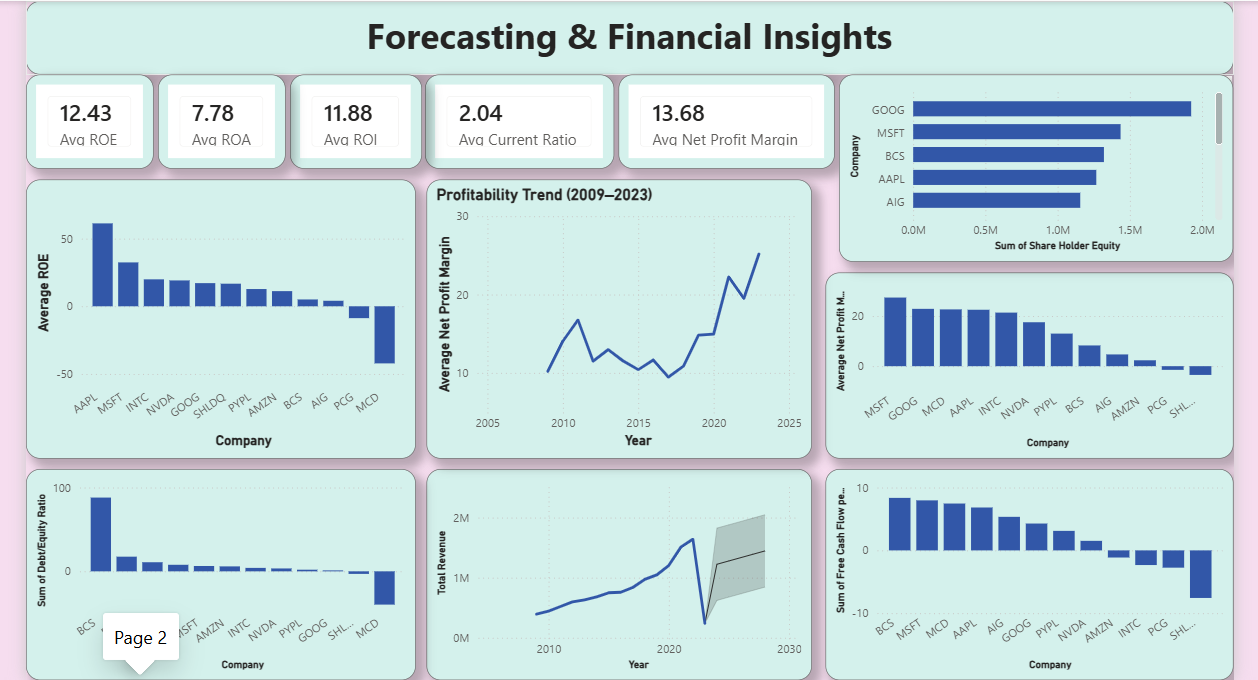

This screenshot's page, from the dashboard's own definition file:
{"tool":"powerbi","page":{"name":"Page 2","canvas":[1280,720],"ordinal":1},"visuals":[{"type":"textbox","box":[0,0,1280.4,77.9],"z":0},{"type":"lineChart","title":"Revenue Forecast (2 Years)","fields":{"Category":["Financial Statement.Year"],"Y":["Financial Statement.Total Revenue"]},"box":[424.7,496.3,408.8,224.3],"z":1000},{"type":"cardVisual","fields":{"Data":["Financial Statement.Average ROE"]},"box":[0,77.9,135.2,100.2],"z":2000},{"type":"cardVisual","fields":{"Data":["Financial Statement.Average Current Ratio"]},"box":[423.7,77.9,200.4,100.2],"z":3000},{"type":"cardVisual","fields":{"Data":["Financial Statement.Average ROI"]},"box":[279.3,77.9,140,100.2],"z":4000},{"type":"cardVisual","fields":{"Data":["Financial Statement.Average ROA"]},"box":[139.7,77.9,135.2,100.2],"z":5000},{"type":"cardVisual","fields":{"Data":["Financial Statement.Average Net Profit Margin"]},"box":[628.6,77.9,229,100.2],"z":6000},{"type":"clusteredColumnChart","fields":{"Category":["Financial Statement.Company "],"Y":["Financial Statement.Average ROE"]},"box":[0,189.3,413.6,295.9],"z":7000},{"type":"clusteredColumnChart","fields":{"Category":["Financial Statement.Company "],"Y":["Financial Statement.Average Net Profit Margin"]},"box":[847.8,287.9,432.6,197.2],"z":8000},{"type":"clusteredColumnChart","title":"Company Debt to Equity Analysis","fields":{"Category":["Financial Statement.Company "],"Y":["Sum(Financial Statement.Debt/Equity Ratio)"]},"box":[0,496.3,413.6,224.3],"z":9000},{"type":"clusteredBarChart","title":"Shareholder Equity Distribution","fields":{"Y":["Sum(Financial Statement.Share Holder Equity)"],"Category":["Financial Statement.Company "]},"box":[861.7,77.9,418.3,198.8],"z":10000},{"type":"clusteredColumnChart","title":"Cash Flow Efficiency by Company","fields":{"Category":["Financial Statement.Company "],"Y":["Sum(Financial Statement.Free Cash Flow per Share)"]},"box":[847.8,496.3,432.6,224.3],"z":11000},{"type":"lineChart","title":"Profitability Trend (2009–2023)","fields":{"Category":["Financial Statement.Year"],"Y":["Financial Statement.Average Net Profit Margin"]},"box":[424.7,189.3,408.8,295.9],"z":12000}]}

Visuals, with their boxes on the page's 1280x720 design canvas (x1, y1, x2, y2). These are canvas units, not pixel positions in the 1258x680 screenshot, which may show the page scaled, cropped or inside an application window:
textbox: <region>0, 0, 1280, 78</region>
"Revenue Forecast (2 Years)" lineChart: <region>425, 496, 834, 721</region>
cardVisual - Financial Statement.Average ROE: <region>0, 78, 135, 178</region>
cardVisual - Financial Statement.Average Current Ratio: <region>424, 78, 624, 178</region>
cardVisual - Financial Statement.Average ROI: <region>279, 78, 419, 178</region>
cardVisual - Financial Statement.Average ROA: <region>140, 78, 275, 178</region>
cardVisual - Financial Statement.Average Net Profit Margin: <region>629, 78, 858, 178</region>
clusteredColumnChart - Financial Statement.Company  x Financial Statement.Average ROE: <region>0, 189, 414, 485</region>
clusteredColumnChart - Financial Statement.Company  x Financial Statement.Average Net Profit Margin: <region>848, 288, 1280, 485</region>
"Company Debt to Equity Analysis" clusteredColumnChart: <region>0, 496, 414, 721</region>
"Shareholder Equity Distribution" clusteredBarChart: <region>862, 78, 1280, 277</region>
"Cash Flow Efficiency by Company" clusteredColumnChart: <region>848, 496, 1280, 721</region>
"Profitability Trend (2009–2023)" lineChart: <region>425, 189, 834, 485</region>
